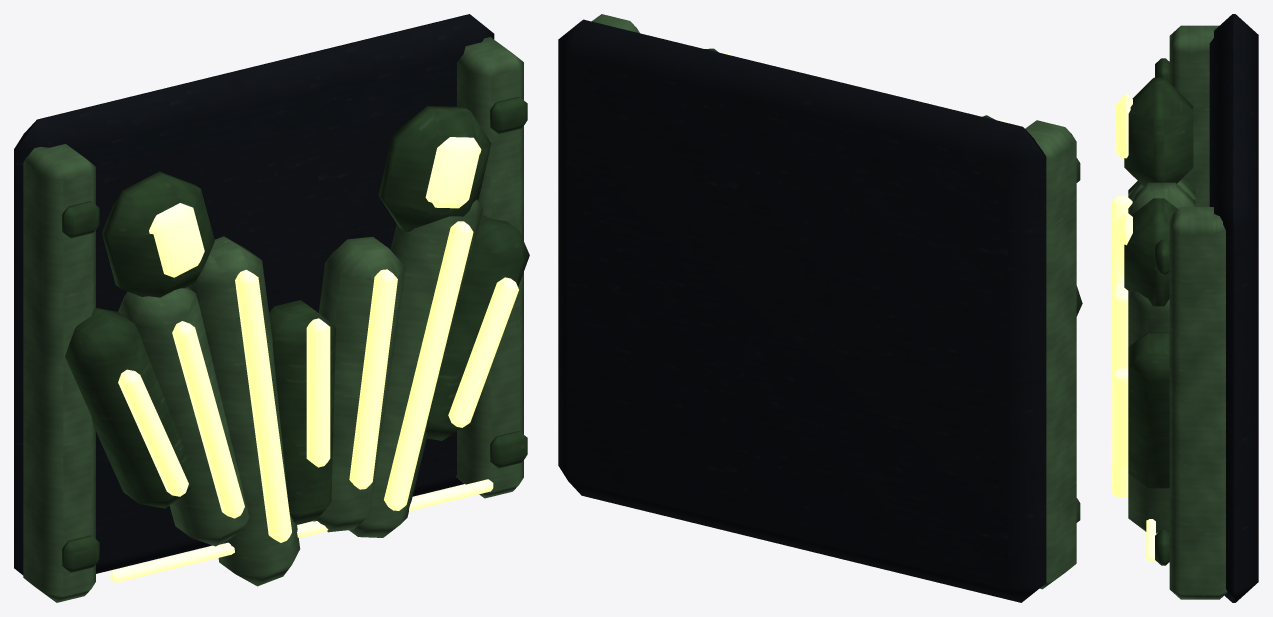
The model's file is machine_jungle_fixture.glb.
The picture shows the model from 3 angles, left to right: view 1: azimuth 30°, elevation 25°; view 2: azimuth 150°, elevation 25°; view 3: azimuth 270°, elevation 25°; orthographic projection. The views are drawn at different scales.
Visible parts, largest first — view 1: machine_jungle_fixture - machine_jungle trim, machine_jungle_fixture - Recessed iron, machine_jungle_fixture - machine_jungle panels, machine_jungle_fixture - machine_jungle accents; view 2: machine_jungle_fixture - Recessed iron, machine_jungle_fixture - machine_jungle trim; view 3: machine_jungle_fixture - machine_jungle trim, machine_jungle_fixture - Recessed iron, machine_jungle_fixture - machine_jungle panels, machine_jungle_fixture - machine_jungle accents.
Boxes of the visible parts, x1,y1,x2,y2 form: machine_jungle_fixture - machine_jungle trim: [23, 37, 523, 602]; machine_jungle_fixture - Recessed iron: [14, 14, 494, 575]; machine_jungle_fixture - machine_jungle panels: [62, 96, 529, 572]; machine_jungle_fixture - machine_jungle accents: [110, 137, 518, 582]; machine_jungle_fixture - Recessed iron: [558, 19, 1046, 602]; machine_jungle_fixture - machine_jungle trim: [591, 14, 1076, 589]; machine_jungle_fixture - machine_jungle trim: [1128, 25, 1227, 599]; machine_jungle_fixture - Recessed iron: [1209, 14, 1258, 602]; machine_jungle_fixture - machine_jungle panels: [1124, 58, 1195, 565]; machine_jungle_fixture - machine_jungle accents: [1111, 93, 1155, 561].
Bounding box in the file's own units: 3.13 × 2.95 × 0.96.
Materials: 4 (3 with a texture image).
